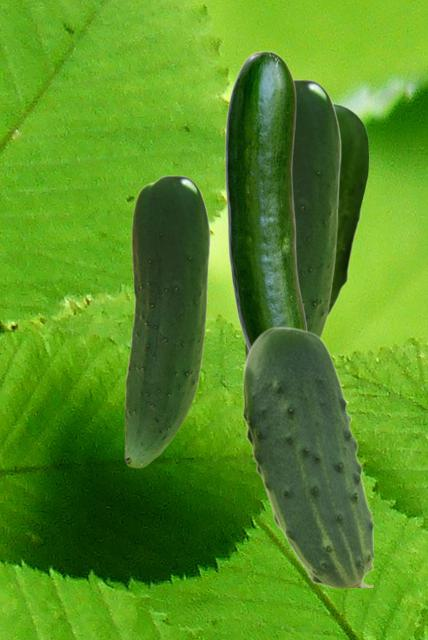cucumber: (242, 326, 372, 586), (244, 79, 340, 359), (124, 175, 209, 467), (224, 50, 306, 349), (327, 101, 368, 322)
